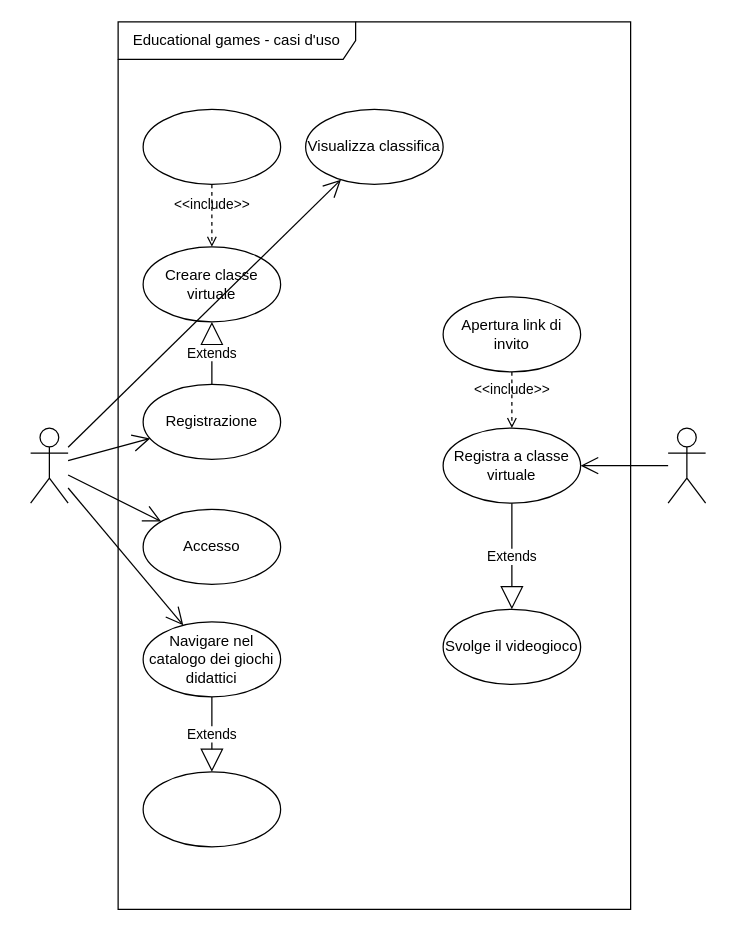
The diagram is 739 pixels wide and 931 high, and some of its shapes have lost their labels. Each missing label, with the box of its shape:
Creazione link d'invito: (142, 108, 281, 184)
Docente: (29, 427, 68, 503)
Scelta videogioco per classe virtuale: (142, 771, 281, 847)
Studente: (667, 427, 706, 503)
